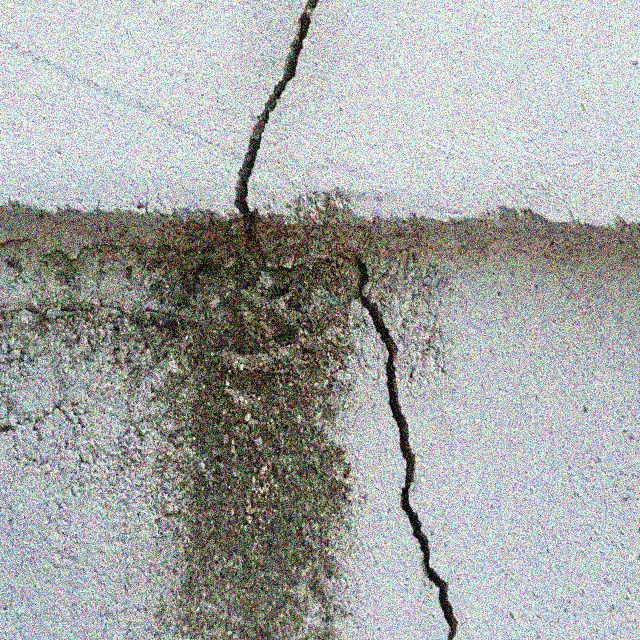SurfaceCrack: (306, 213, 480, 640)
